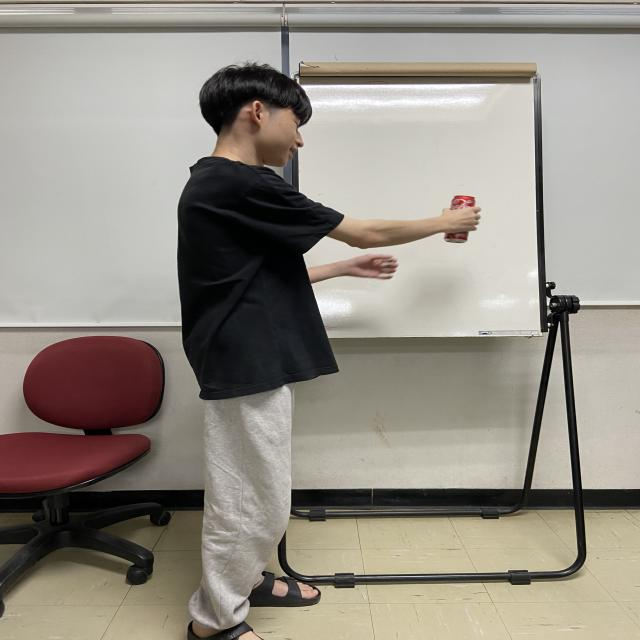can: (443, 195, 476, 243)
